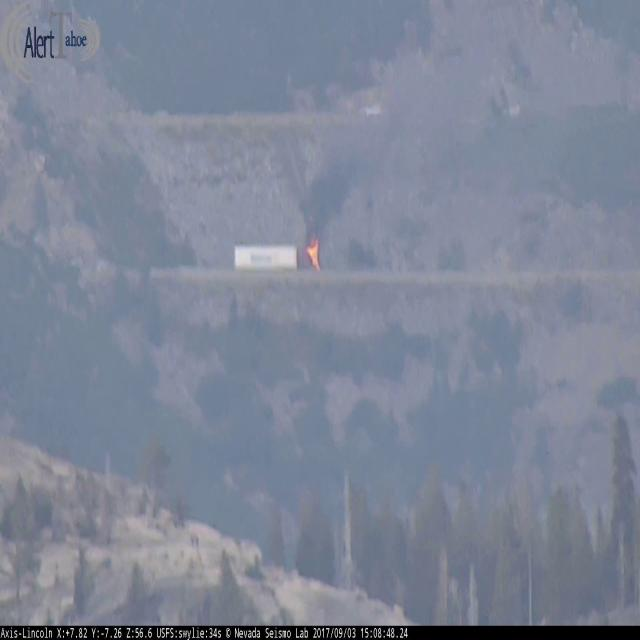smoke: (300, 0, 639, 239)
